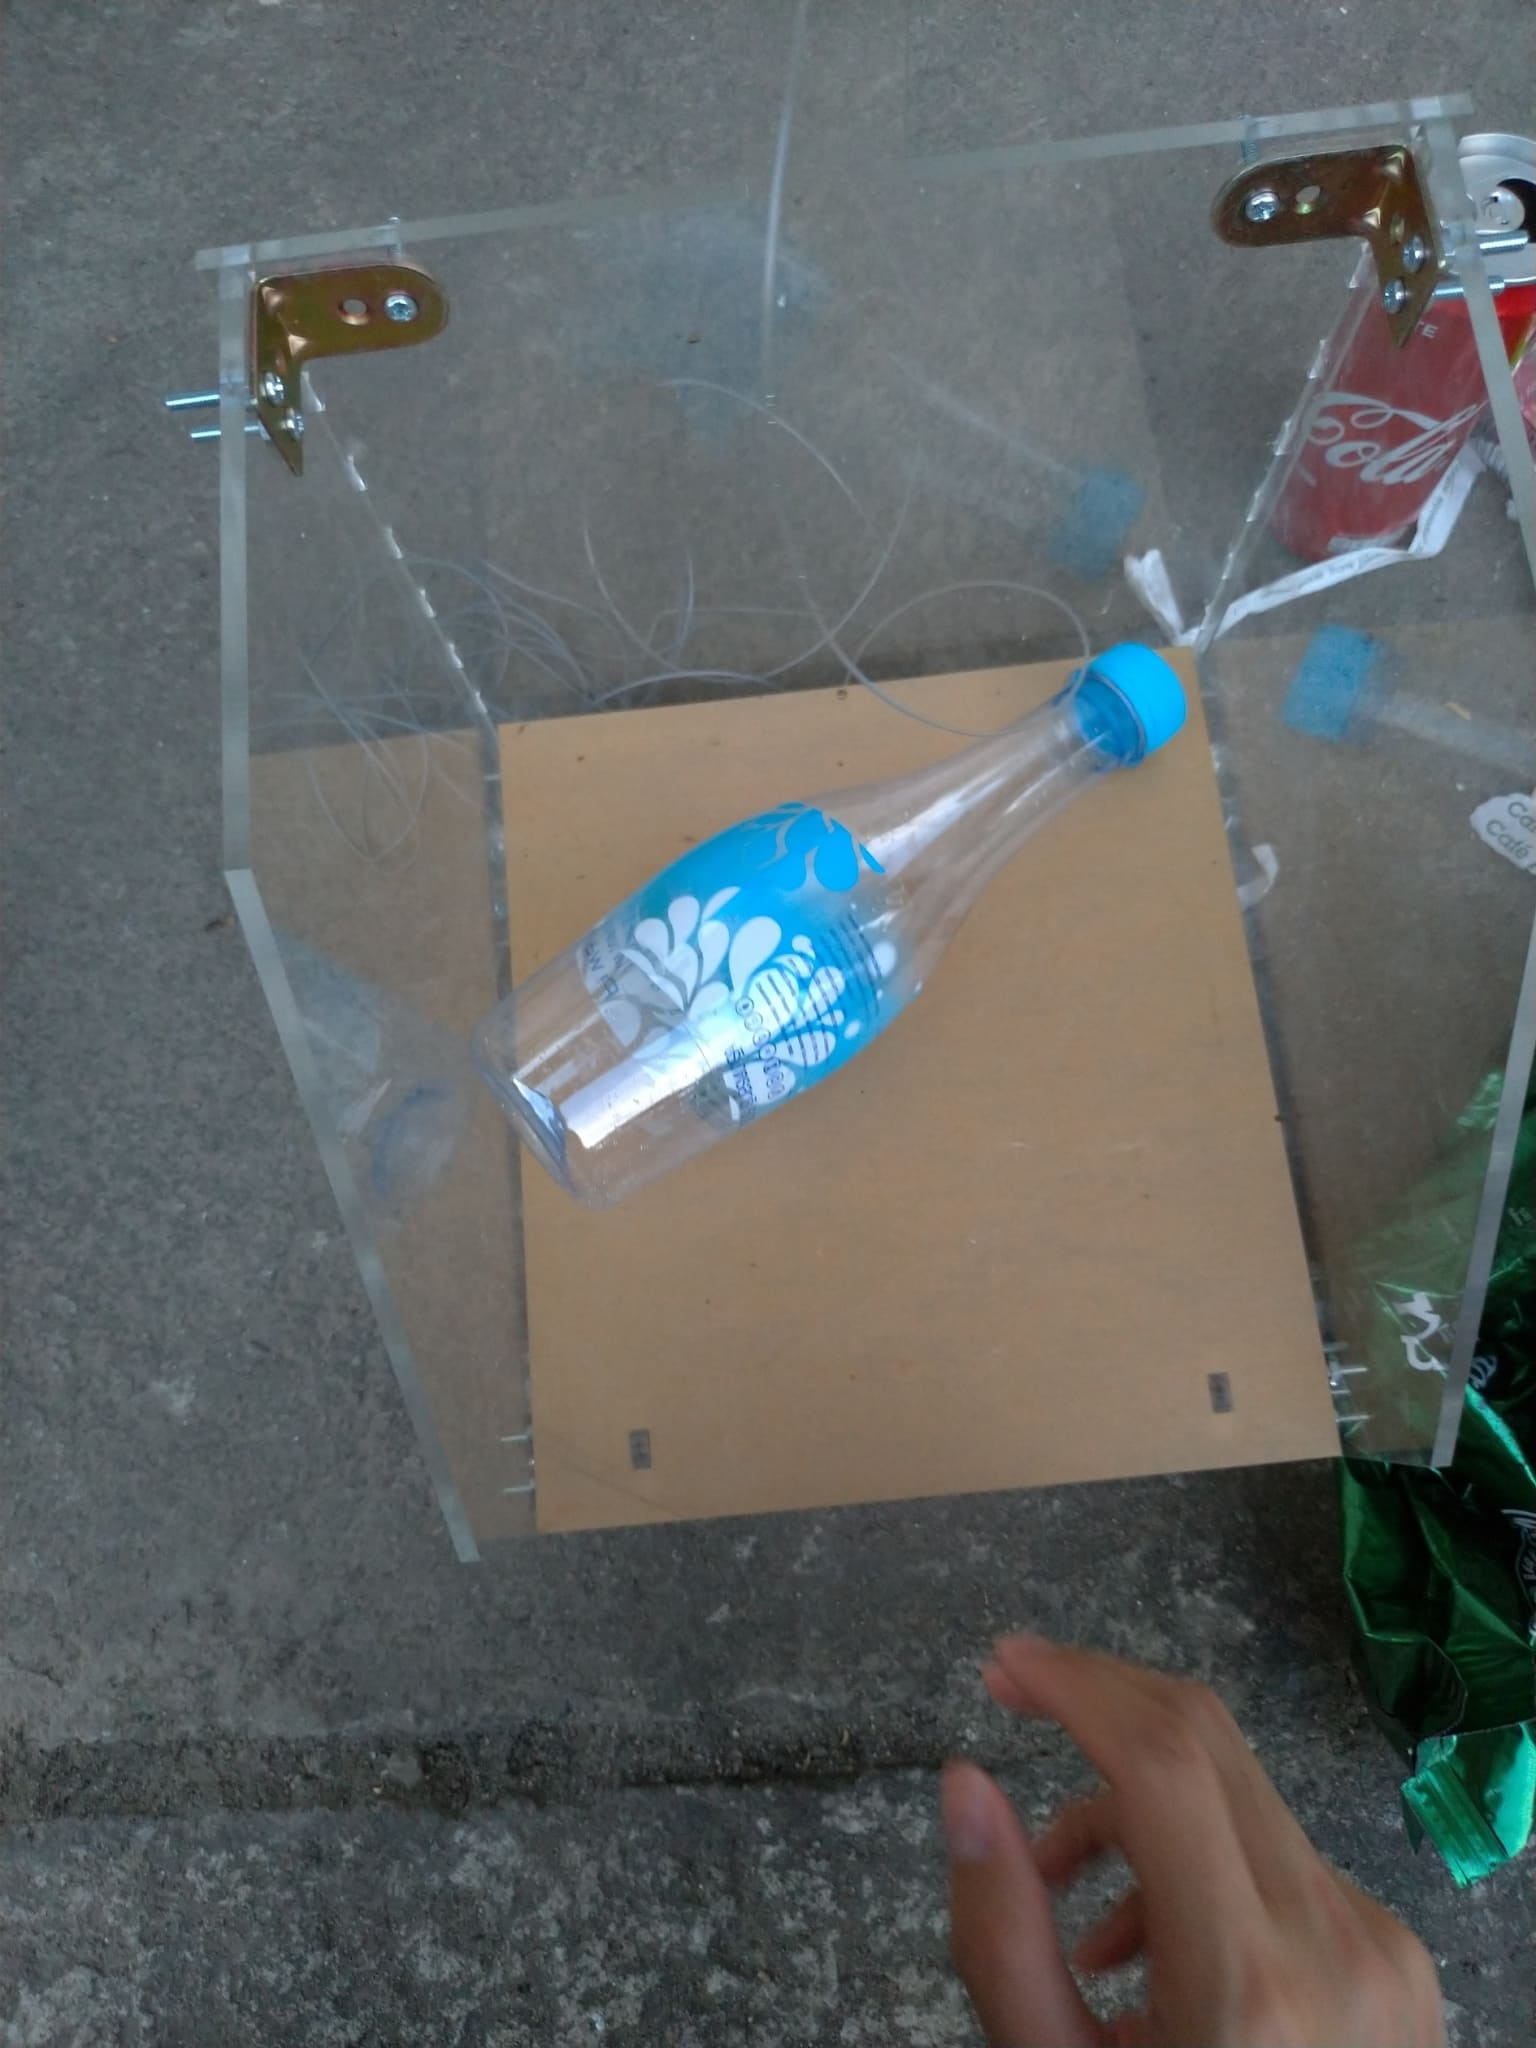AlCan: (1262, 132, 1536, 560)
Others: (1305, 1048, 1536, 1879), (1121, 445, 1509, 648)
PlasticBottle: (471, 645, 1191, 1206)
